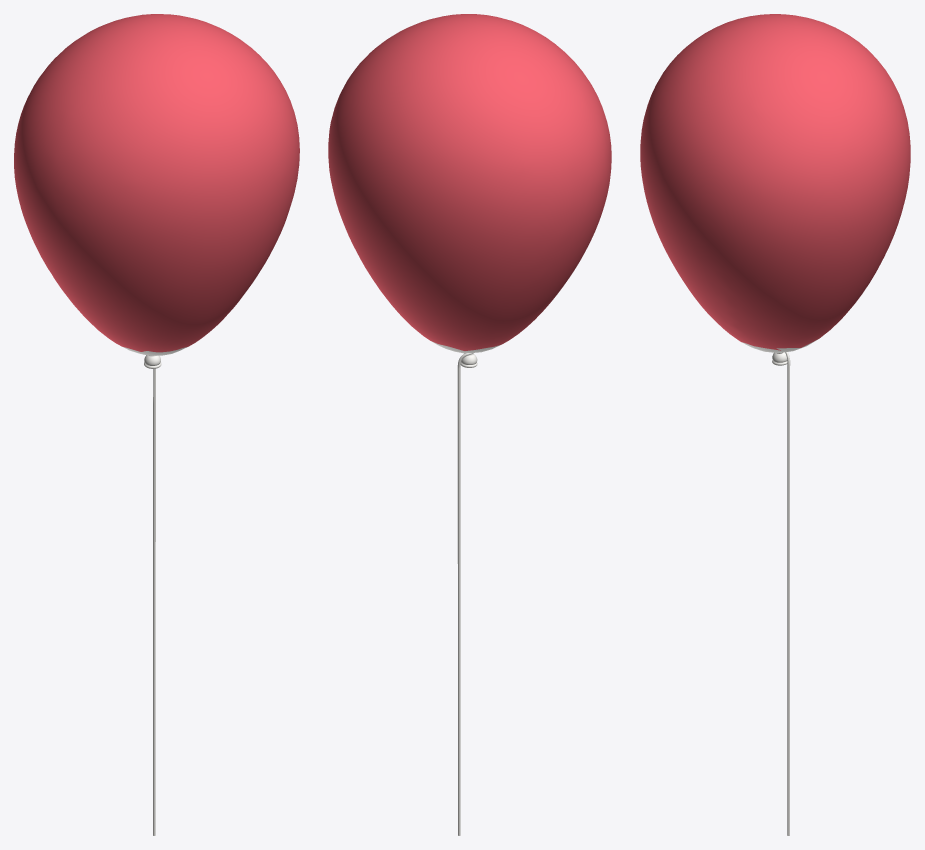
Rendered from balloon.glb.
3 views of the same model, side by side, from view 1: azimuth 30°, elevation 25°; view 2: azimuth 150°, elevation 25°; view 3: azimuth 270°, elevation 25° (orthographic).
Parts seen in each view (by area): view 1: KeepyUppyBalloon; view 2: KeepyUppyBalloon; view 3: KeepyUppyBalloon.
Part boxes in pixels (<box>): KeepyUppyBalloon: <box>14,14,299,835</box>; KeepyUppyBalloon: <box>328,14,611,835</box>; KeepyUppyBalloon: <box>640,14,910,835</box>.
Bounding box in the file's own units: 0.45 × 1.38 × 0.421.
